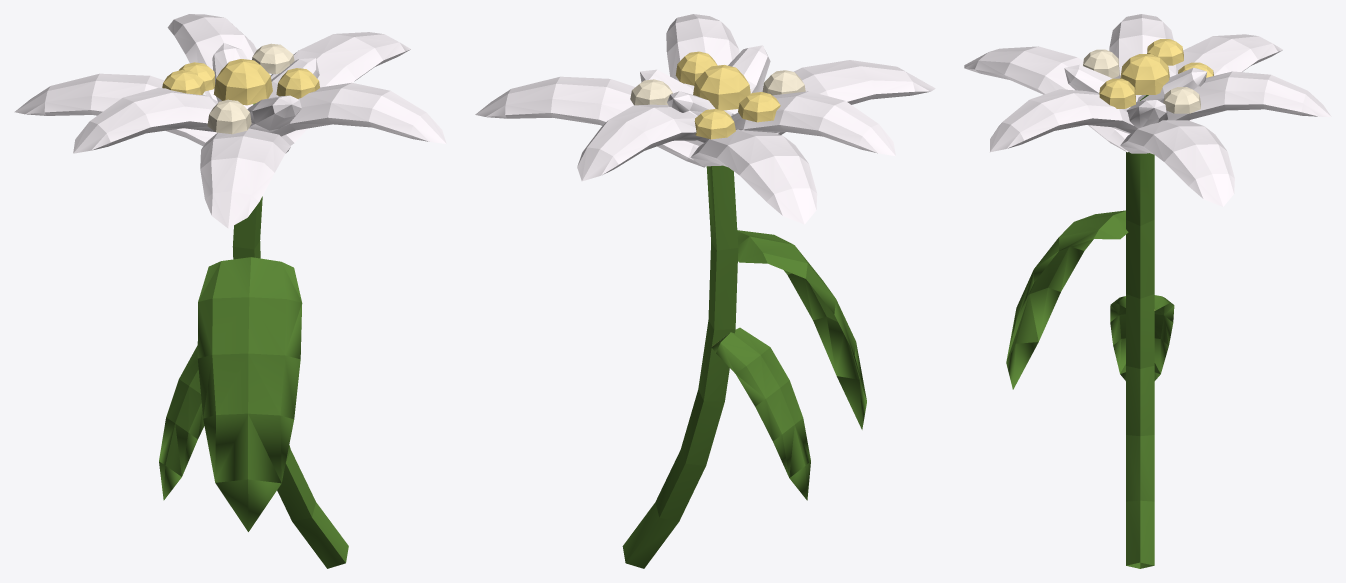
Rendered from edelweiss.glb.
3 views of the same model, side by side, from view 1: azimuth 30°, elevation 25°; view 2: azimuth 150°, elevation 25°; view 3: azimuth 270°, elevation 25° (orthographic). The views are drawn at different scales.
Parts seen in each view (by area): view 1: edelweiss; view 2: edelweiss; view 3: edelweiss.
Part boxes in pixels (x1,y1,x2,y2): edelweiss: [14, 14, 446, 568]; edelweiss: [475, 14, 935, 568]; edelweiss: [964, 14, 1331, 568].
Size of the model in its own units: 15.12 by 20.1 by 14.04.
Materials: 1 (1 with a texture image).
